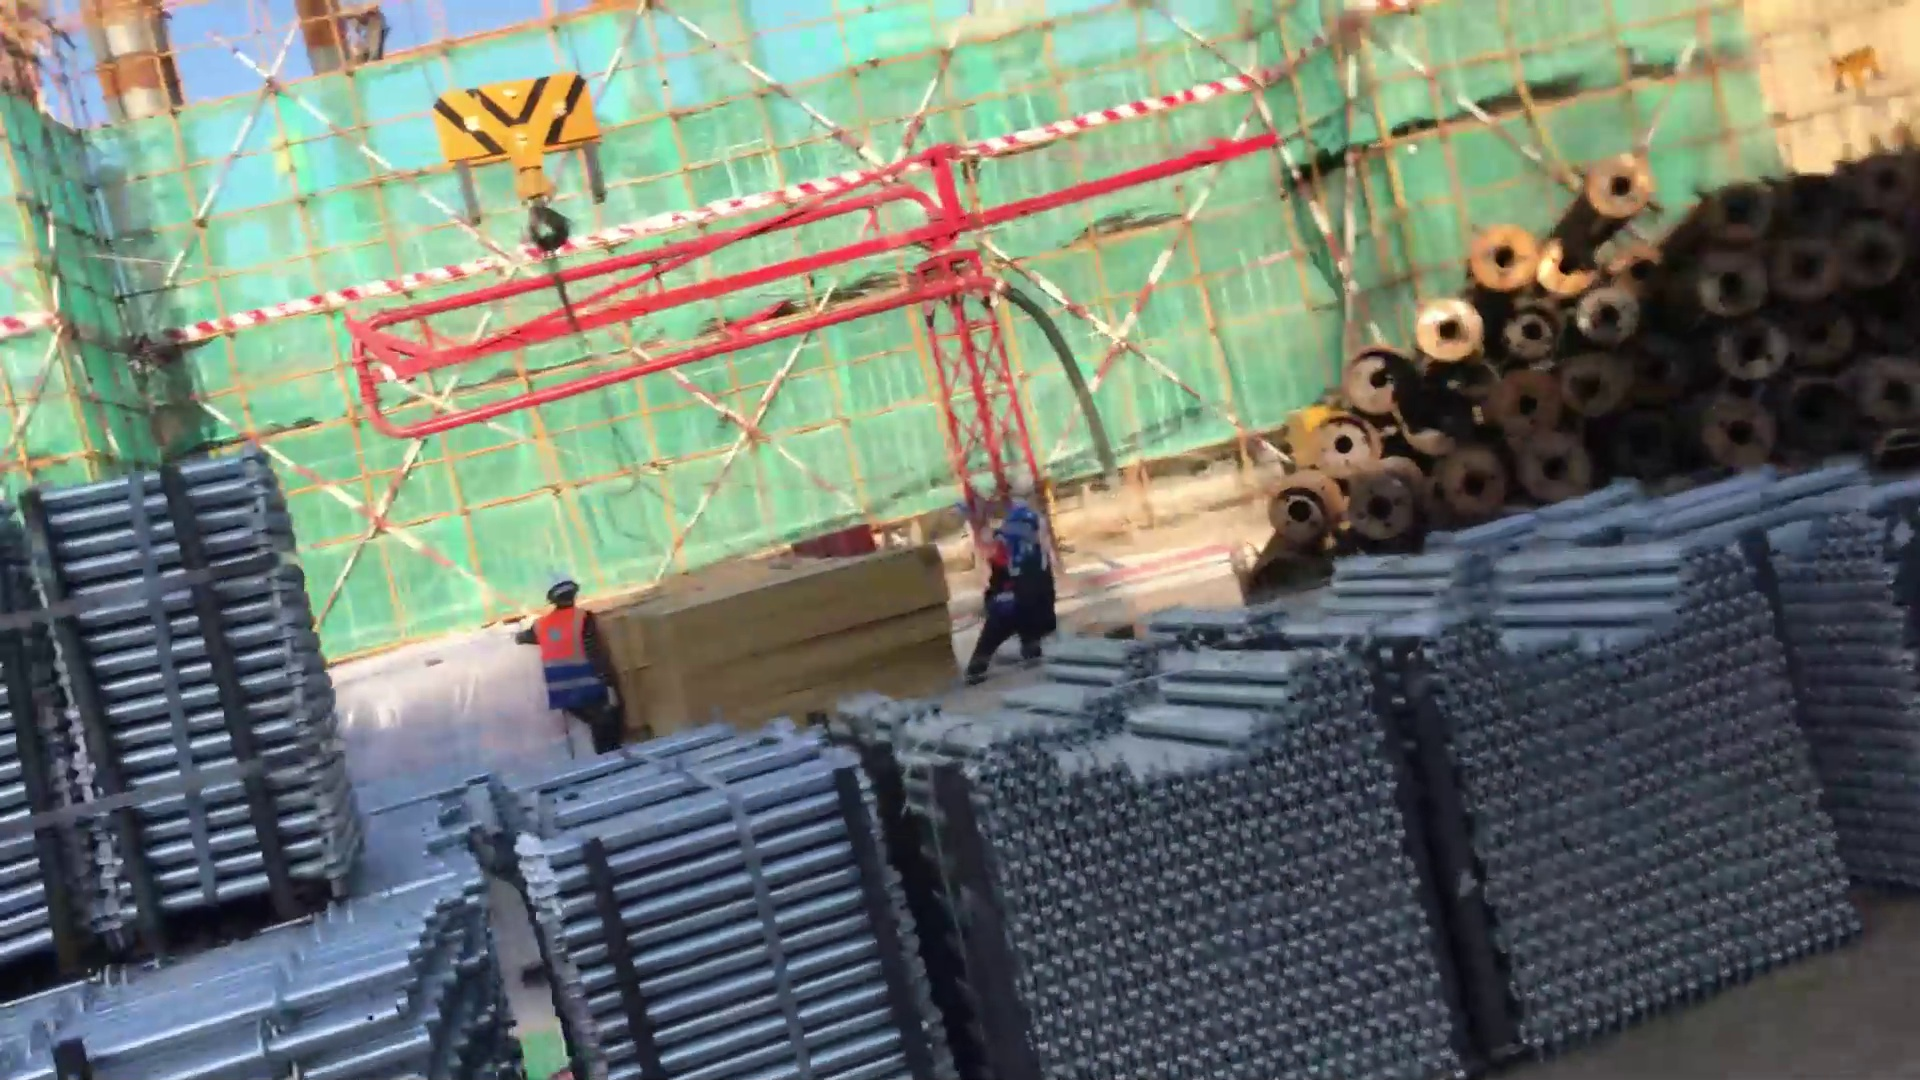board: (620, 537, 959, 734)
helmet: (1000, 499, 1051, 555), (545, 572, 576, 618)
hook: (430, 60, 629, 294)
person: (515, 578, 630, 768), (964, 500, 1056, 713)
scaffold: (1234, 557, 1865, 1052), (847, 659, 1452, 1080), (1427, 457, 1920, 910), (1, 402, 356, 945), (1, 755, 534, 1074), (493, 744, 954, 1080)
vest: (978, 535, 1054, 651), (536, 610, 614, 717)
